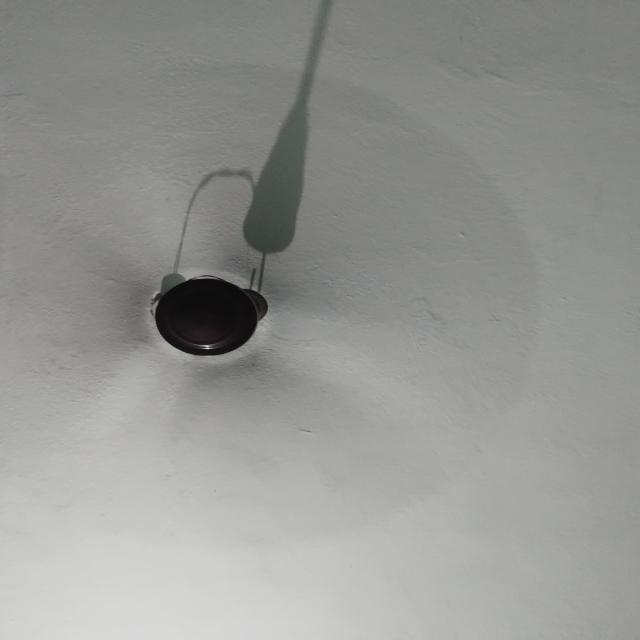fan_on: (0, 68, 545, 541)
